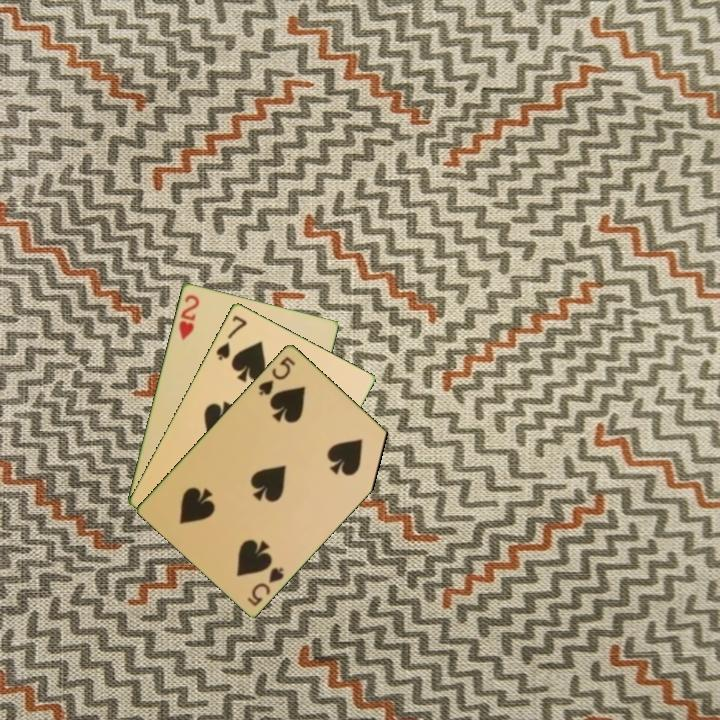2h: (175, 291, 202, 343)
5s: (244, 563, 287, 609), (255, 353, 298, 398)
7s: (212, 311, 250, 363)
